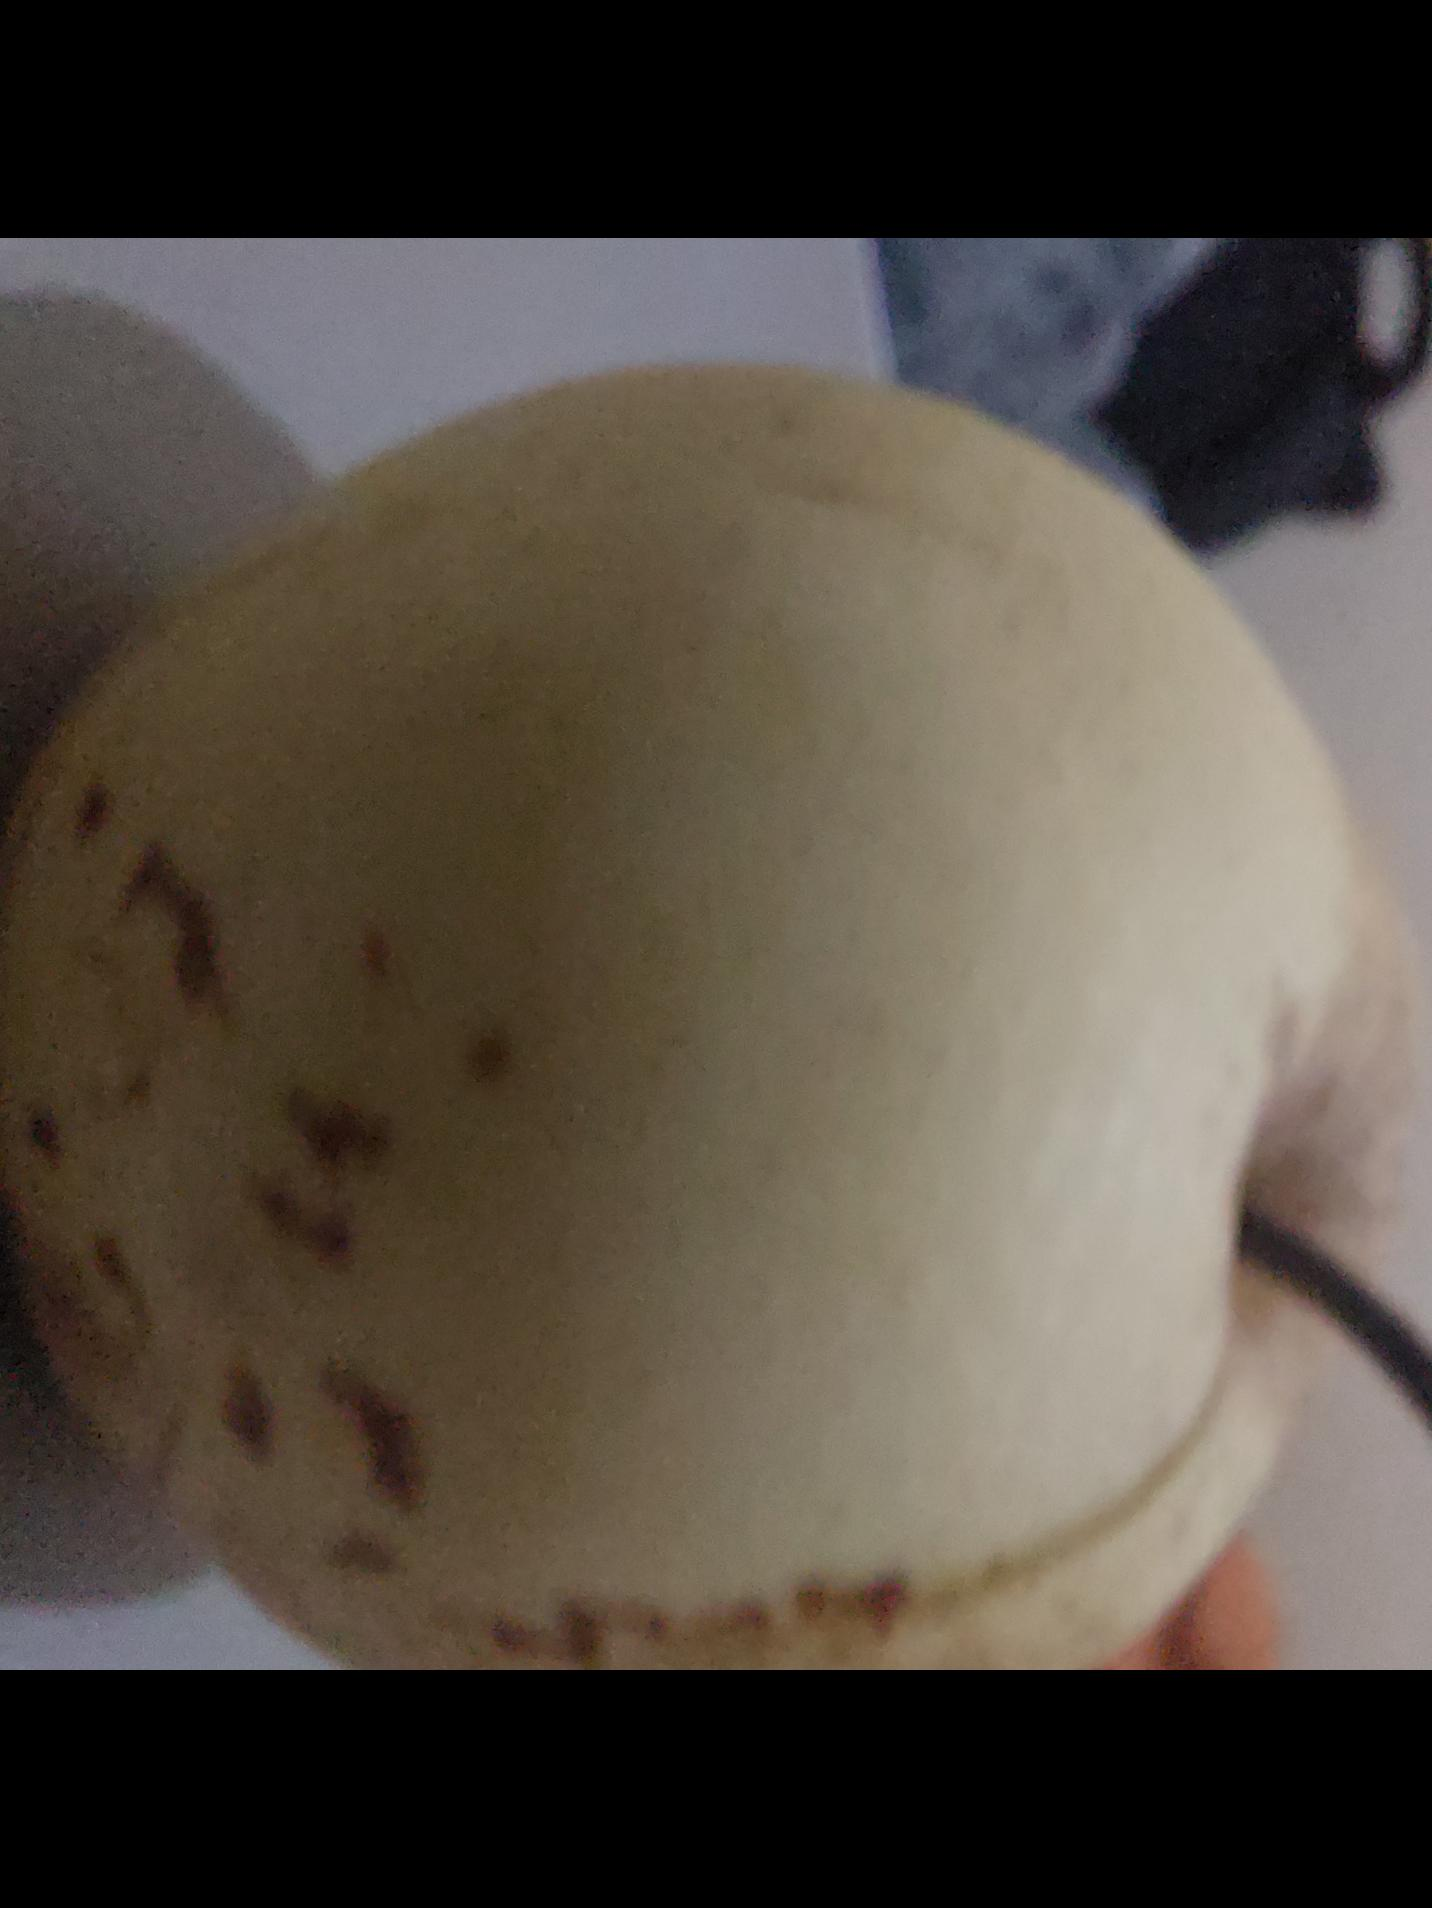Bad Pear: (0, 383, 1400, 1670)
